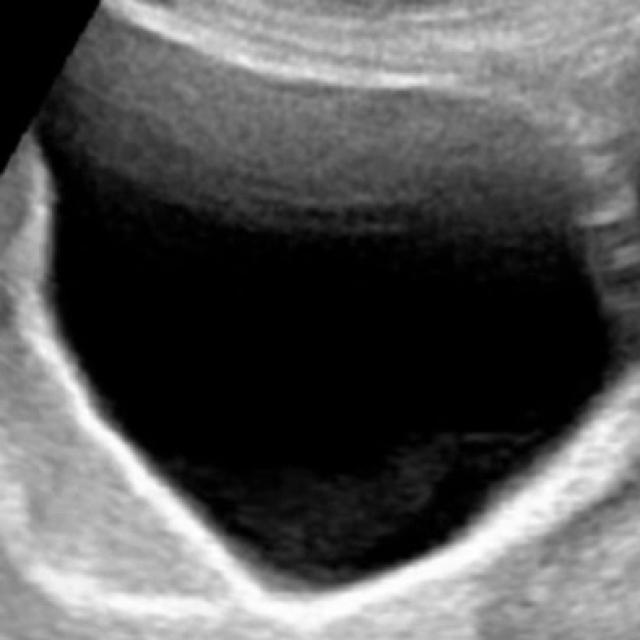bladder: (24, 8, 625, 616)
